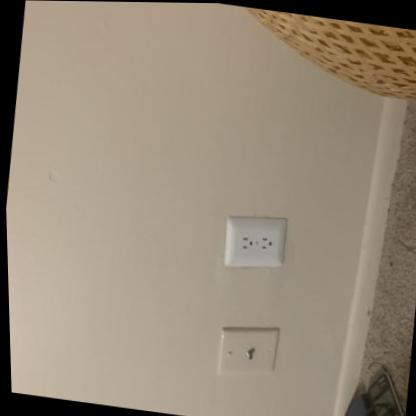OUTLET: (220, 209, 289, 272)
